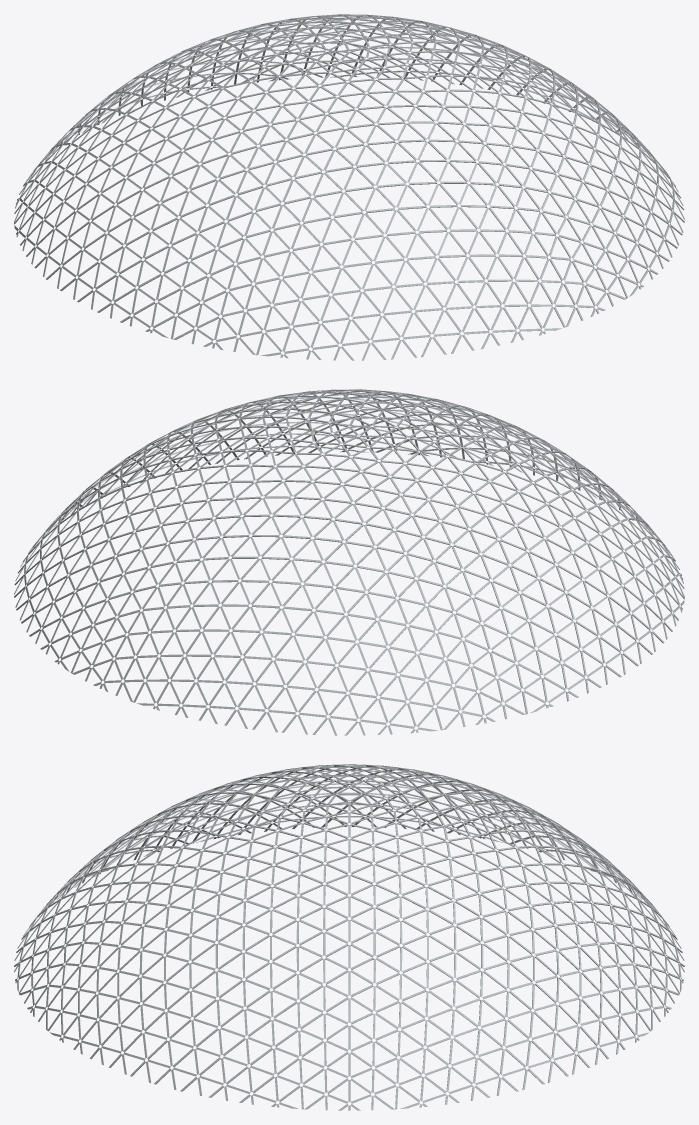
The model's file is DomePt02.dae.
3 renders of one model, top to bottom at view 1: azimuth 30°, elevation 25°; view 2: azimuth 150°, elevation 25°; view 3: azimuth 270°, elevation 25°, orthographic.
Visible parts, largest first — view 1: DomePt02; view 2: DomePt02; view 3: DomePt02.
Boxes of the visible parts, x1,y1,x2,y2 form: DomePt02: (14, 14, 684, 360); DomePt02: (14, 389, 684, 735); DomePt02: (14, 764, 684, 1110).
Size of the model in its own units: 203 by 203 by 55.87.
